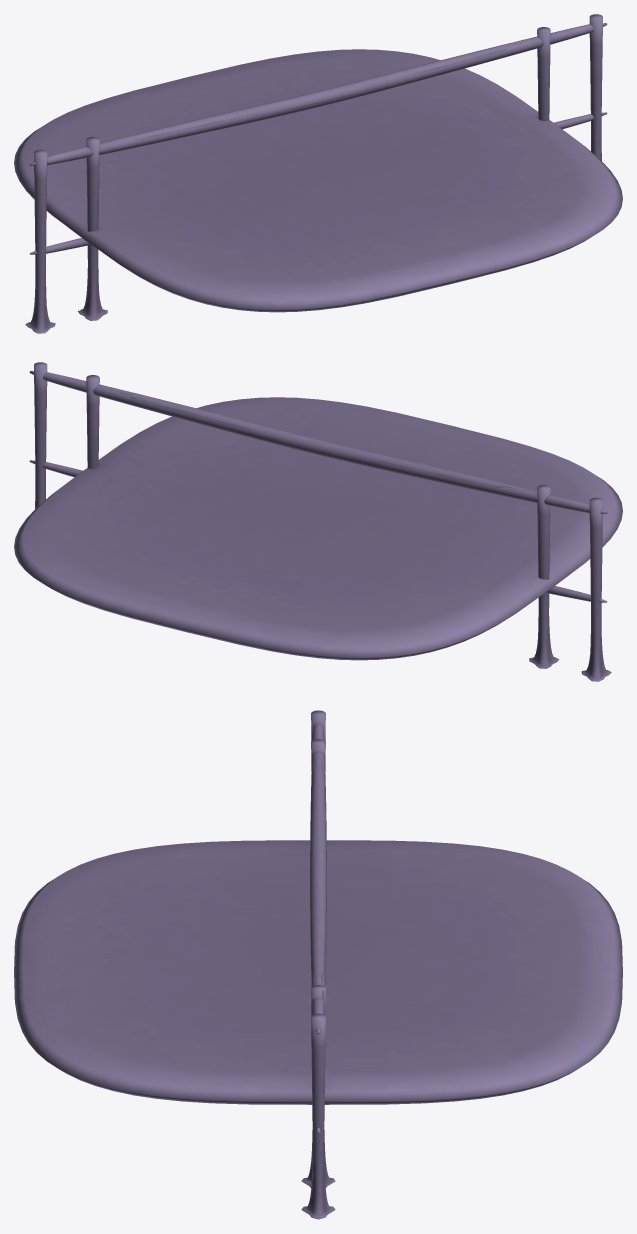
The model's file is lift_head.glb.
The picture shows the model from 3 angles, top to bottom: view 1: azimuth 30°, elevation 25°; view 2: azimuth 150°, elevation 25°; view 3: azimuth 270°, elevation 25°; orthographic projection. The views are drawn at different scales.
Parts seen in each view (by area): view 1: lift_pad, lift_gate_4_4, lift_rail_3_6; view 2: lift_pad, lift_gate_4_4, lift_rail_3_6; view 3: lift_pad, lift_gate_4_4, lift_rail_3_6.
Boxes of the visible parts, box(x1,y1,x2,y2) form: lift_pad: box(14, 49, 622, 312); lift_gate_4_4: box(25, 14, 607, 333); lift_rail_3_6: box(78, 27, 550, 320); lift_pad: box(14, 397, 622, 660); lift_gate_4_4: box(29, 362, 611, 681); lift_rail_3_6: box(86, 375, 558, 668); lift_pad: box(14, 840, 622, 1104); lift_gate_4_4: box(301, 710, 335, 1219); lift_rail_3_6: box(301, 739, 335, 1188).
Bounding box in the file's own units: 4.43 × 1.27 × 3.6.
Materials: 1 (1 with a texture image).
